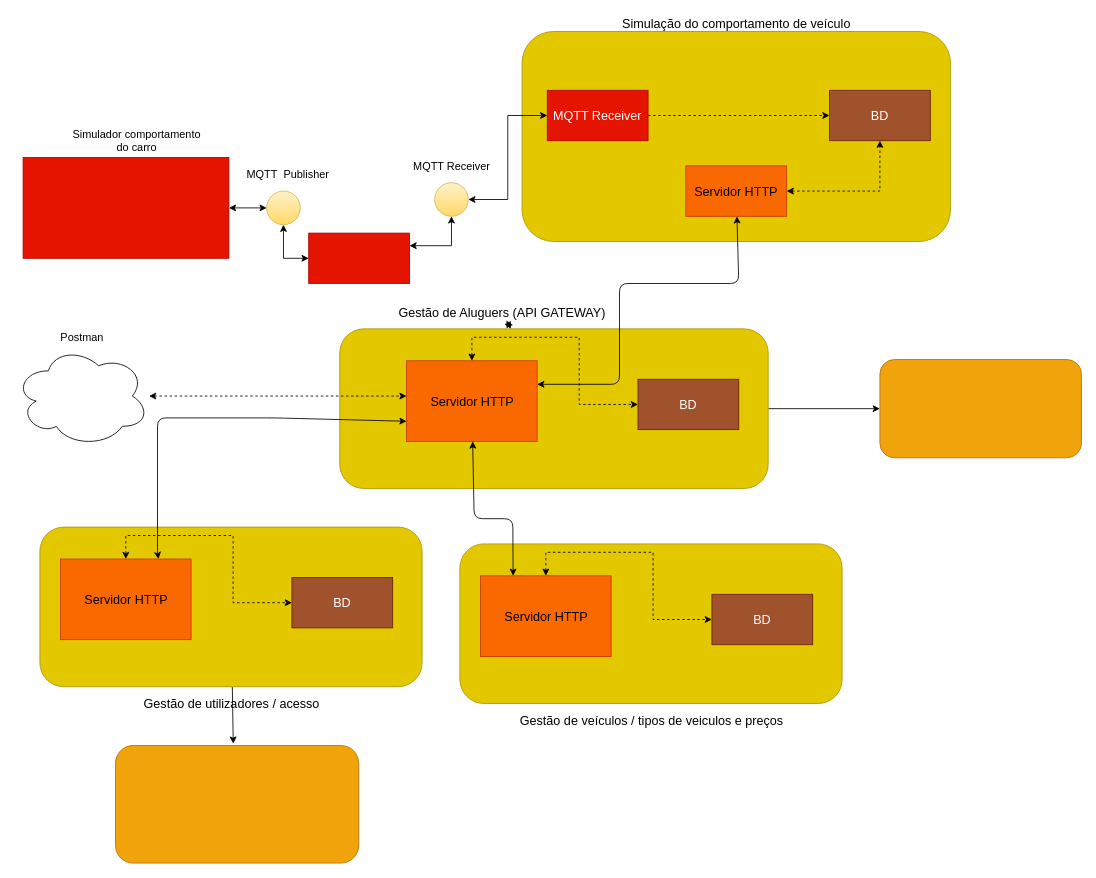
The diagram is 1096 pixels wide and 878 high, and some of its shapes have lost their labels. Here are the shapes that lost their labels. From the top down, the centre of each, then its label:
At point 125,207: "Node Red".
At point 359,258: "Mosquito".
At point 81,395: "Cliente".
At point 980,408: "Cálculo de rotas".
At point 237,804: "Reconhcecimento de género e idade".
